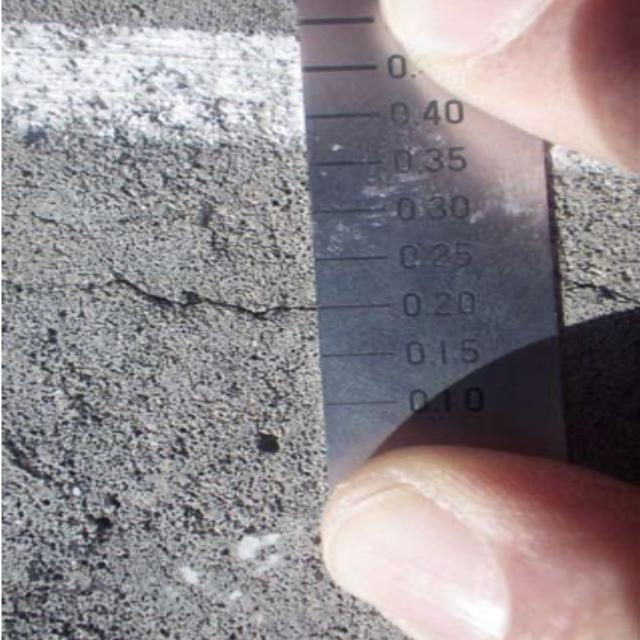crack: (7, 252, 320, 344)
